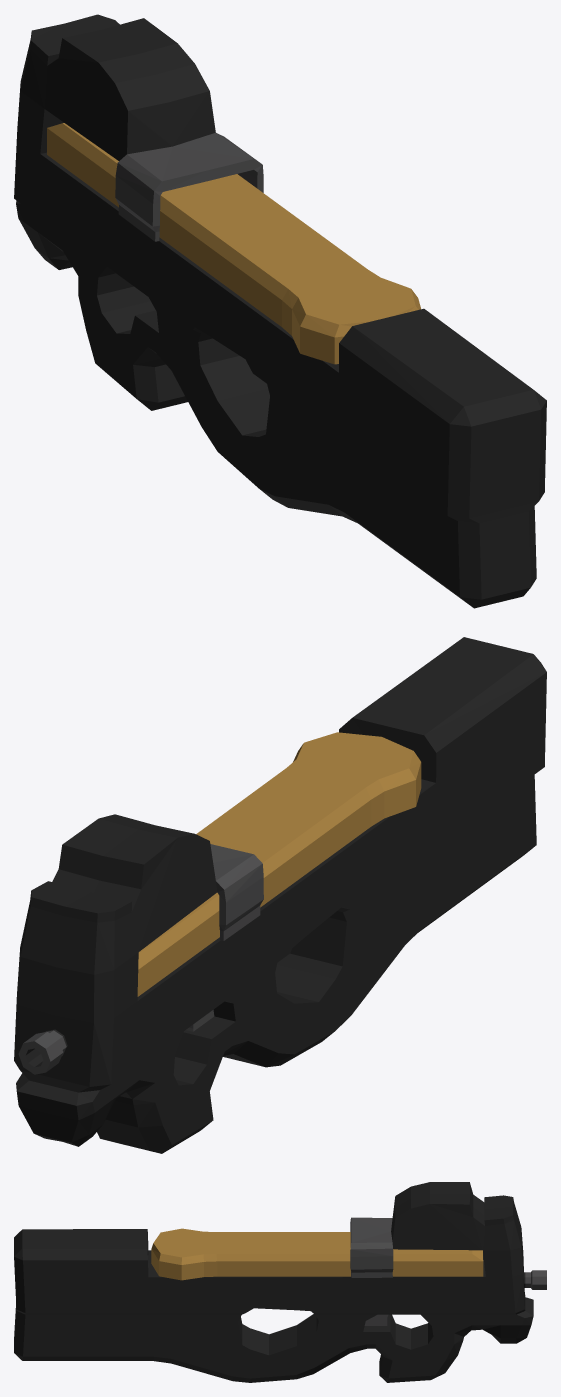
3 renders of one model, top to bottom at view 1: azimuth 30°, elevation 25°; view 2: azimuth 150°, elevation 25°; view 3: azimuth 270°, elevation 25°, orthographic. The views are drawn at different scales.
Visible parts, largest first — view 1: P90; view 2: P90; view 3: P90.
Boxes of the visible parts, bbox=[...] form: P90: bbox=[14, 14, 546, 608]; P90: bbox=[14, 637, 546, 1153]; P90: bbox=[14, 1182, 546, 1382].
Size of the model in its own units: 0.1544 by 1.07 by 0.4052.
